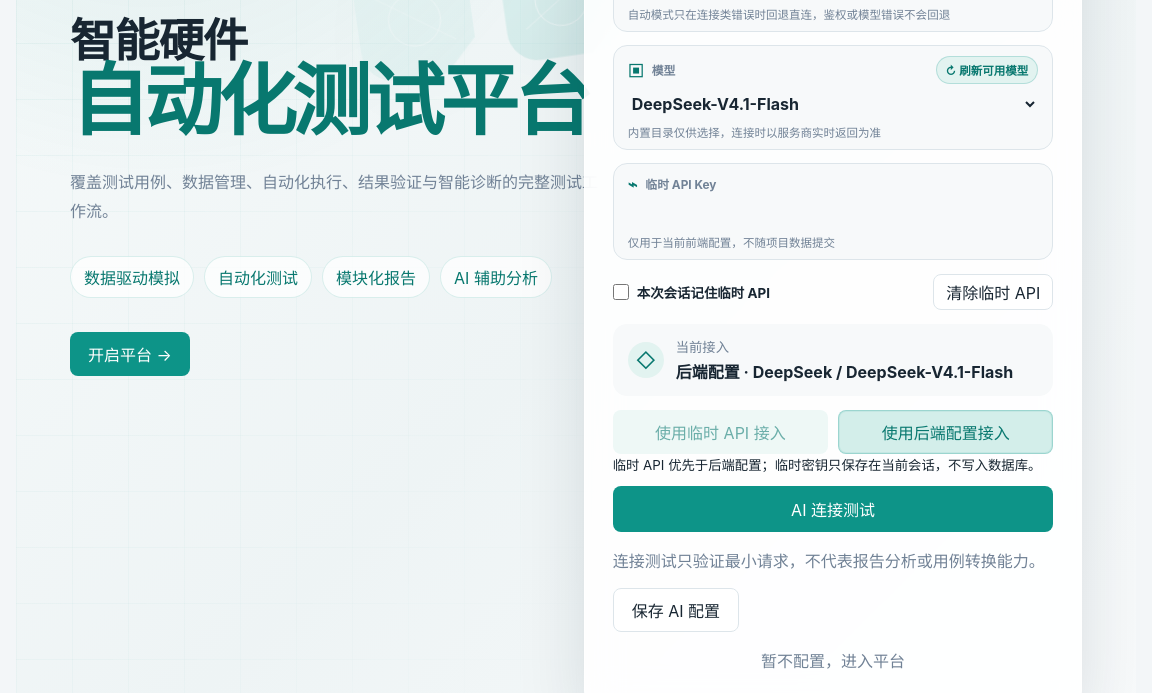
Test: 可登记已完成数据任务结果并刷新数据包列表
(page scrolled)
Step 1. Click the button "开启平台 →" → (130, 354), box top-left (70, 332), bottom-right (190, 376)
(page scrolled)
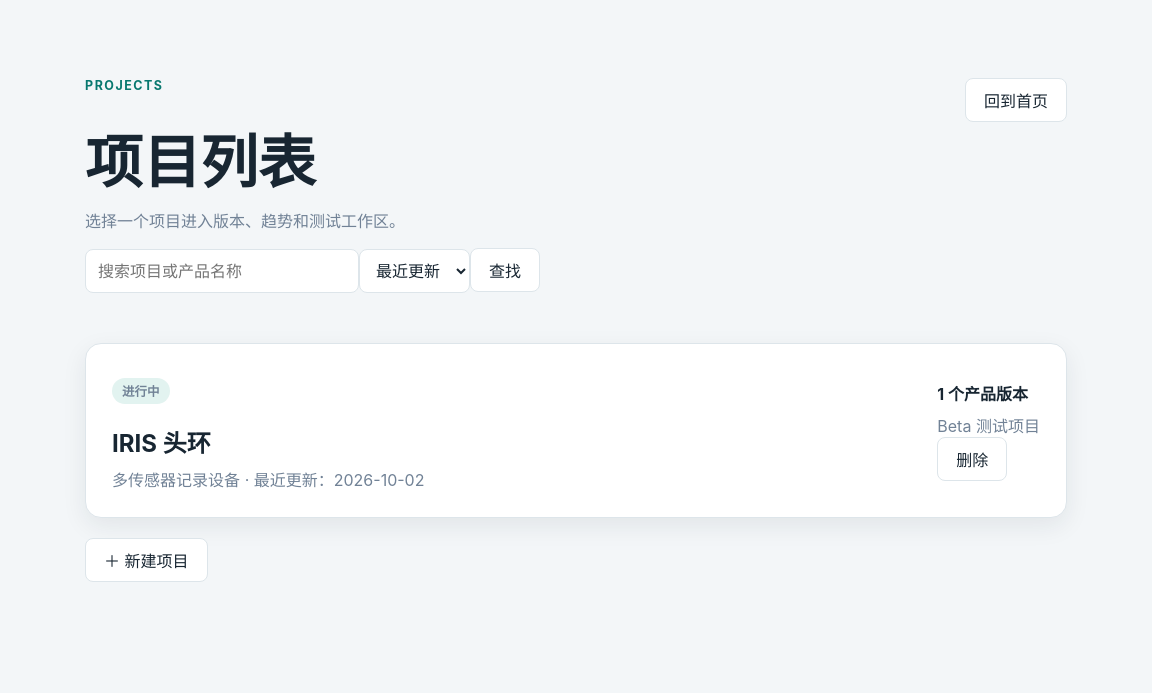
Step 2. Click the button "进行中 IRIS 头环 多传感器记录设备 · 最近更新：2026-10-02 1 个产品版本 Beta 测试项目 删除" → (576, 431), box top-left (85, 343), bottom-right (1067, 518)
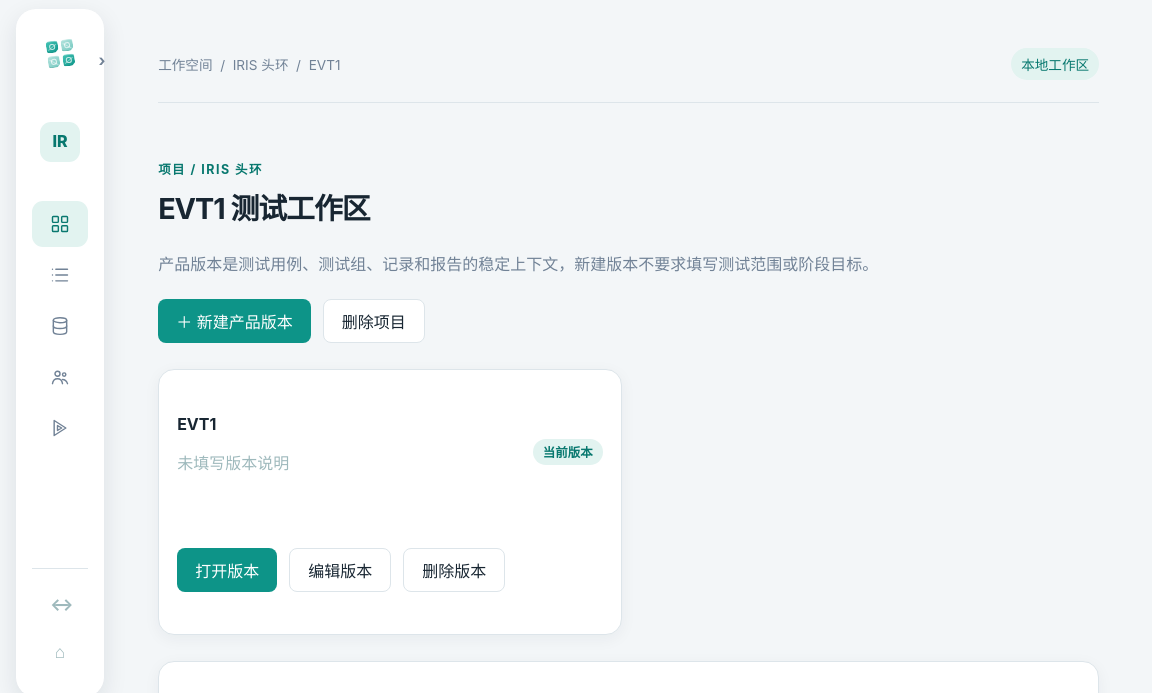
Step 3. Click the button named "测试数据" → (60, 326), box top-left (32, 303), bottom-right (88, 349)
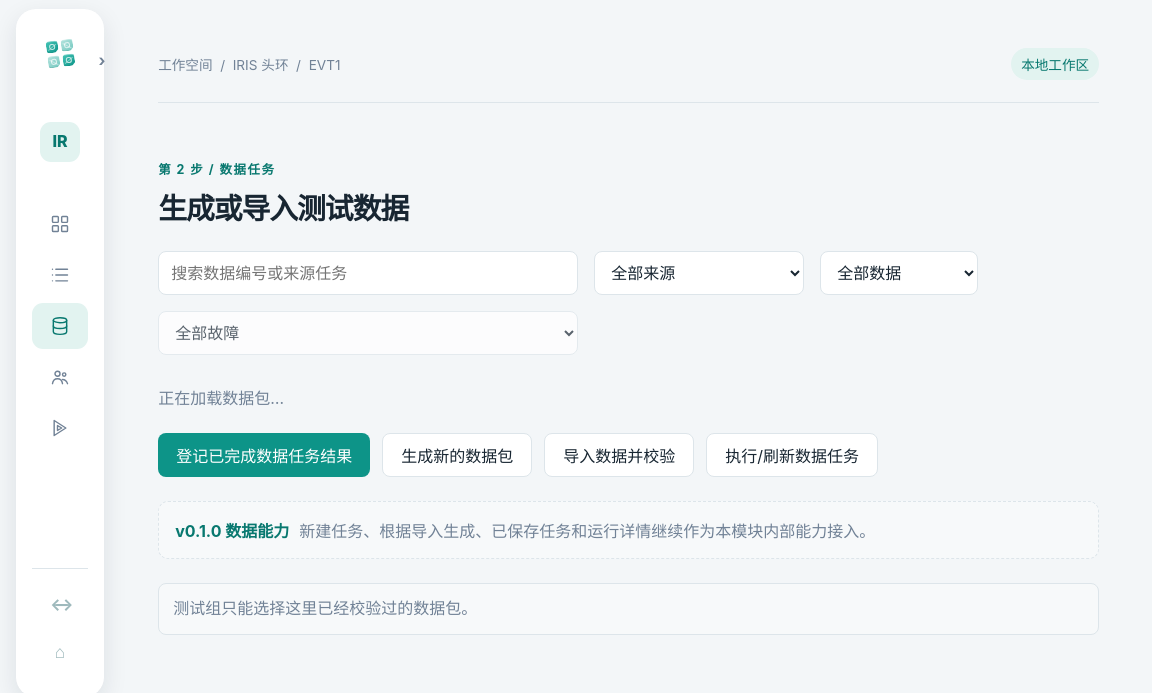
Expected: the button "登记已完成数据任务结果" is shown
Step 4. Click the button "登记已完成数据任务结果" → (264, 455), box top-left (158, 433), bottom-right (370, 477)
(page scrolled)
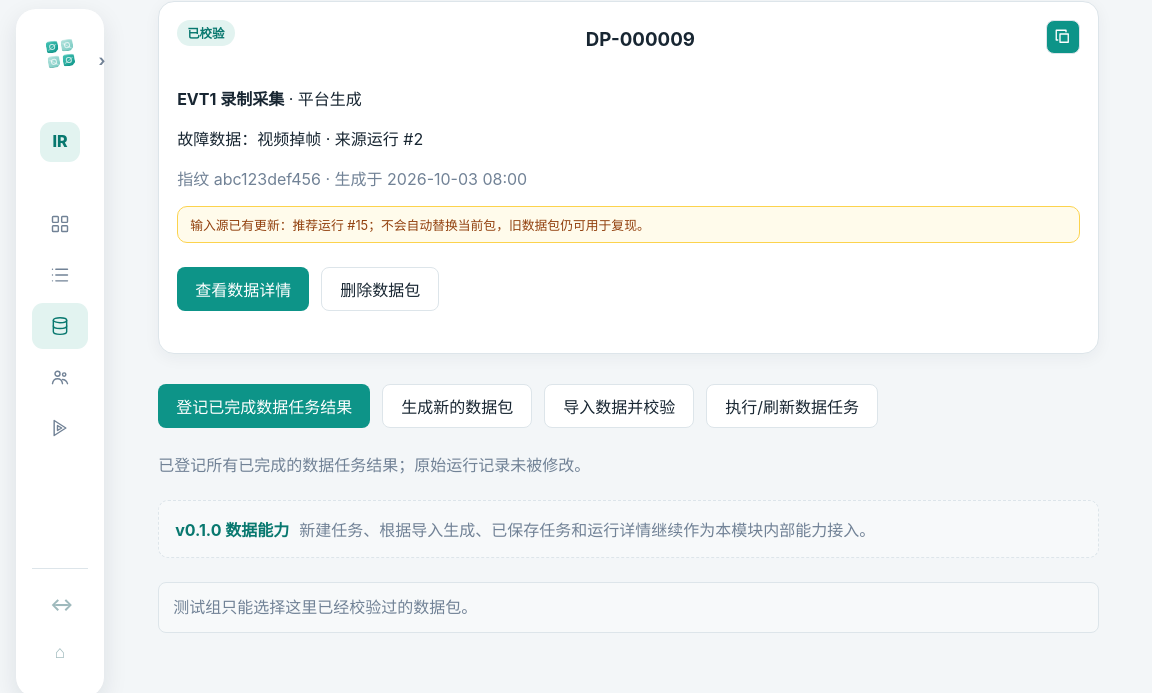
Expected: the heading "DP-000009" is shown, top-left (586, 28), bottom-right (695, 51)
Expected: the text "已登记所有已完成的数据任务结果；原始运行记录未被修改。" is shown, top-left (158, 455), bottom-right (590, 475)
